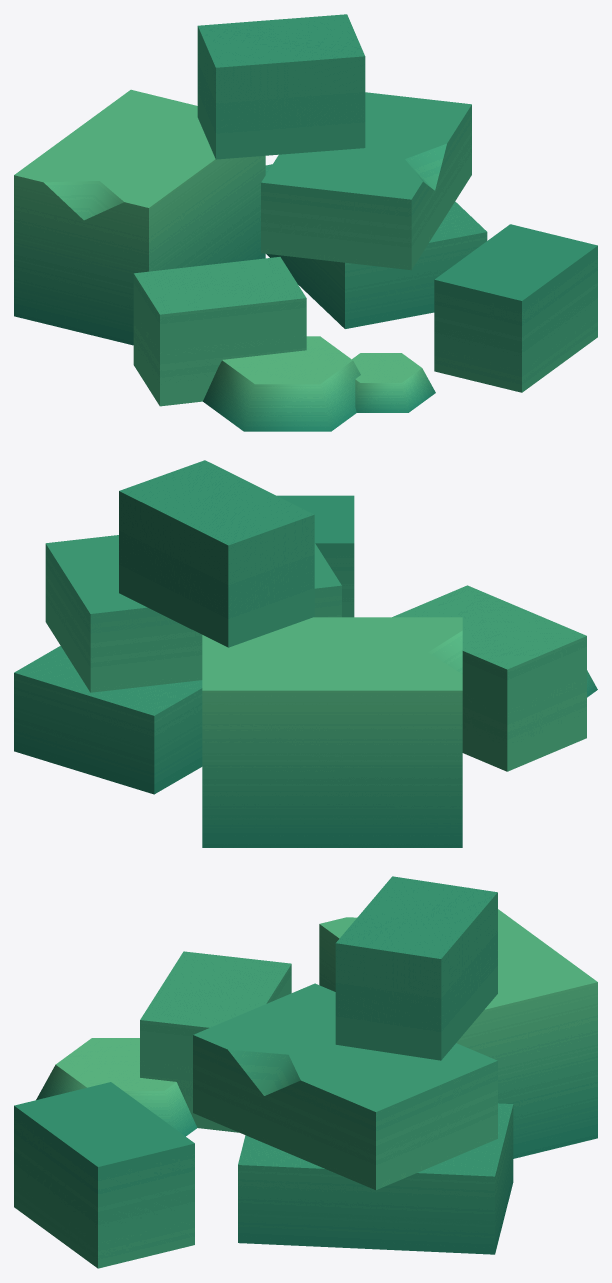
Rendered from bricks.glb.
3 renders of one model, top to bottom at view 1: azimuth 30°, elevation 25°; view 2: azimuth 150°, elevation 25°; view 3: azimuth 270°, elevation 25°, orthographic. The views are drawn at different scales.
Parts seen in each view (by area): view 1: bricks; view 2: bricks; view 3: bricks.
Part boxes in pixels (x1,y1,x2,y2): bricks: [14, 14, 597, 431]; bricks: [14, 460, 597, 847]; bricks: [14, 876, 597, 1268].
Size of the model in its own units: 0.772 by 0.4125 by 0.8469.
